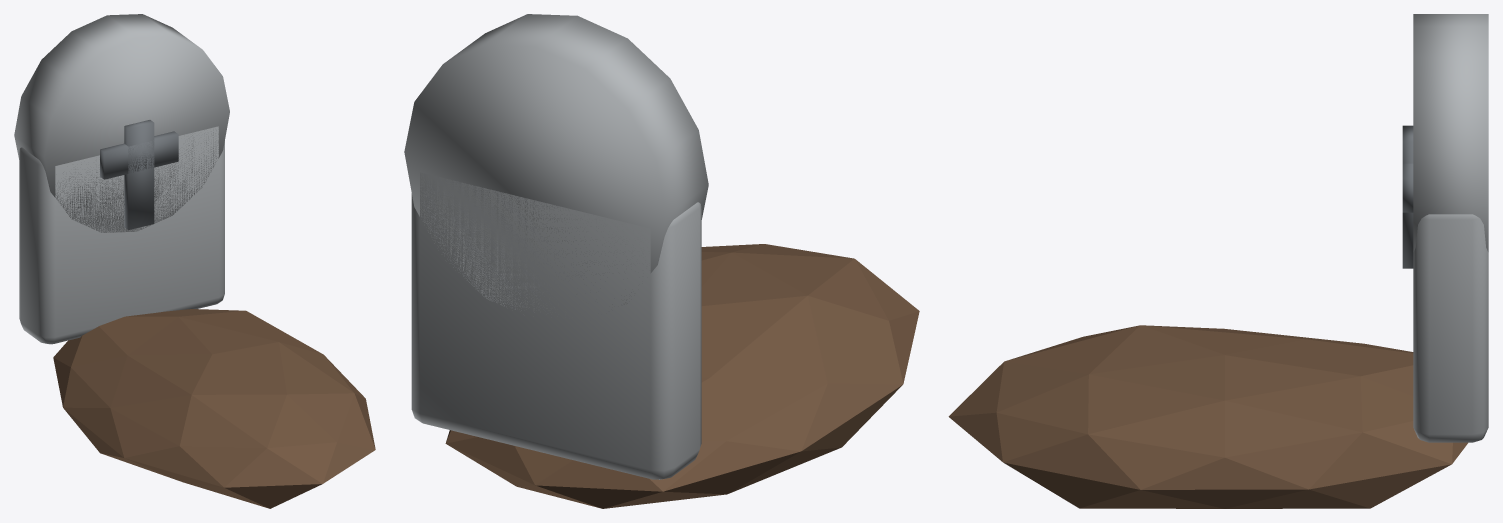
Rendered from grave.glb.
3 views of the same model, side by side, from view 1: azimuth 30°, elevation 25°; view 2: azimuth 150°, elevation 25°; view 3: azimuth 270°, elevation 25° (orthographic). The views are drawn at different scales.
Parts seen in each view (by area): view 1: Grave; view 2: Grave; view 3: Grave.
Part boxes in pixels (bbox=[...]): Grave: bbox=[14, 14, 375, 508]; Grave: bbox=[404, 14, 919, 508]; Grave: bbox=[948, 14, 1488, 508].
Bounding box in the file's own units: 0.6508 × 0.9165 × 1.
